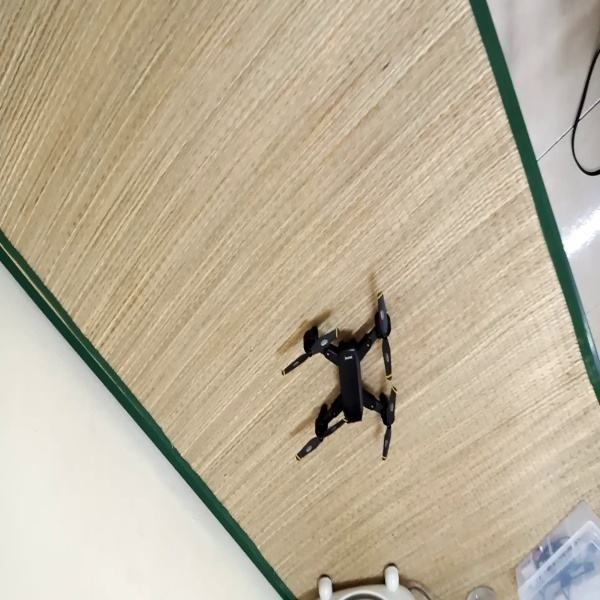drone: (283, 285, 400, 466)
